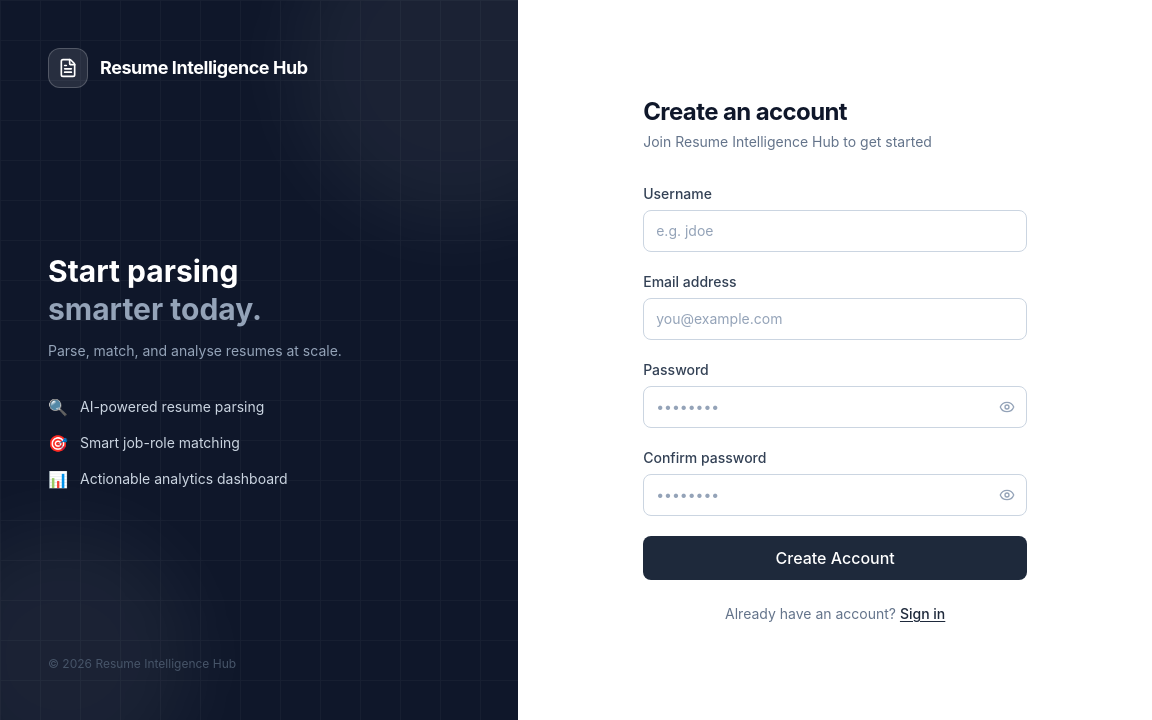
it: RegisterPage — field validation › shows errors when username is too short and other fields are empty
Type "ab" into the field labelled "Username" at (835, 231), box [643,210,1027,252]
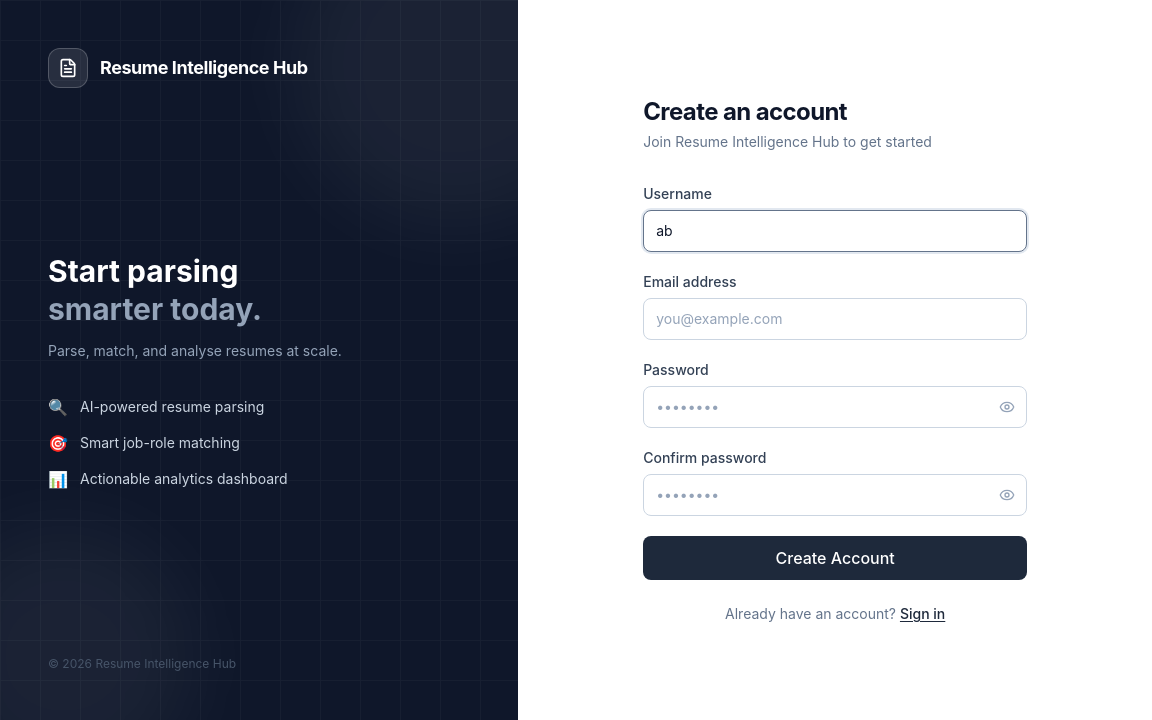
Click the button "Create Account" at (835, 558), box [643,536,1027,580]
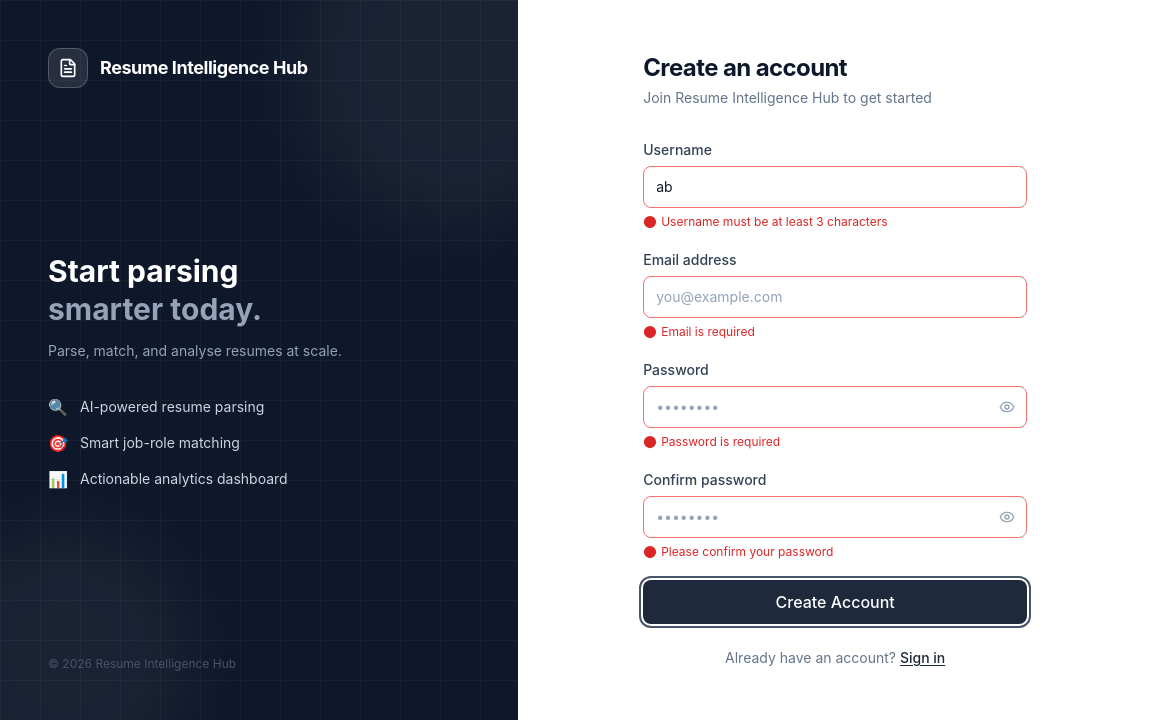
Now the message "Username must be at least 3 characters" is shown, box [643,214,888,229]
